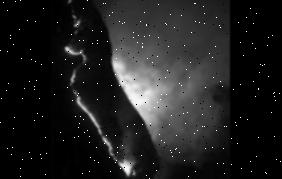fire: (57, 0, 169, 179)
